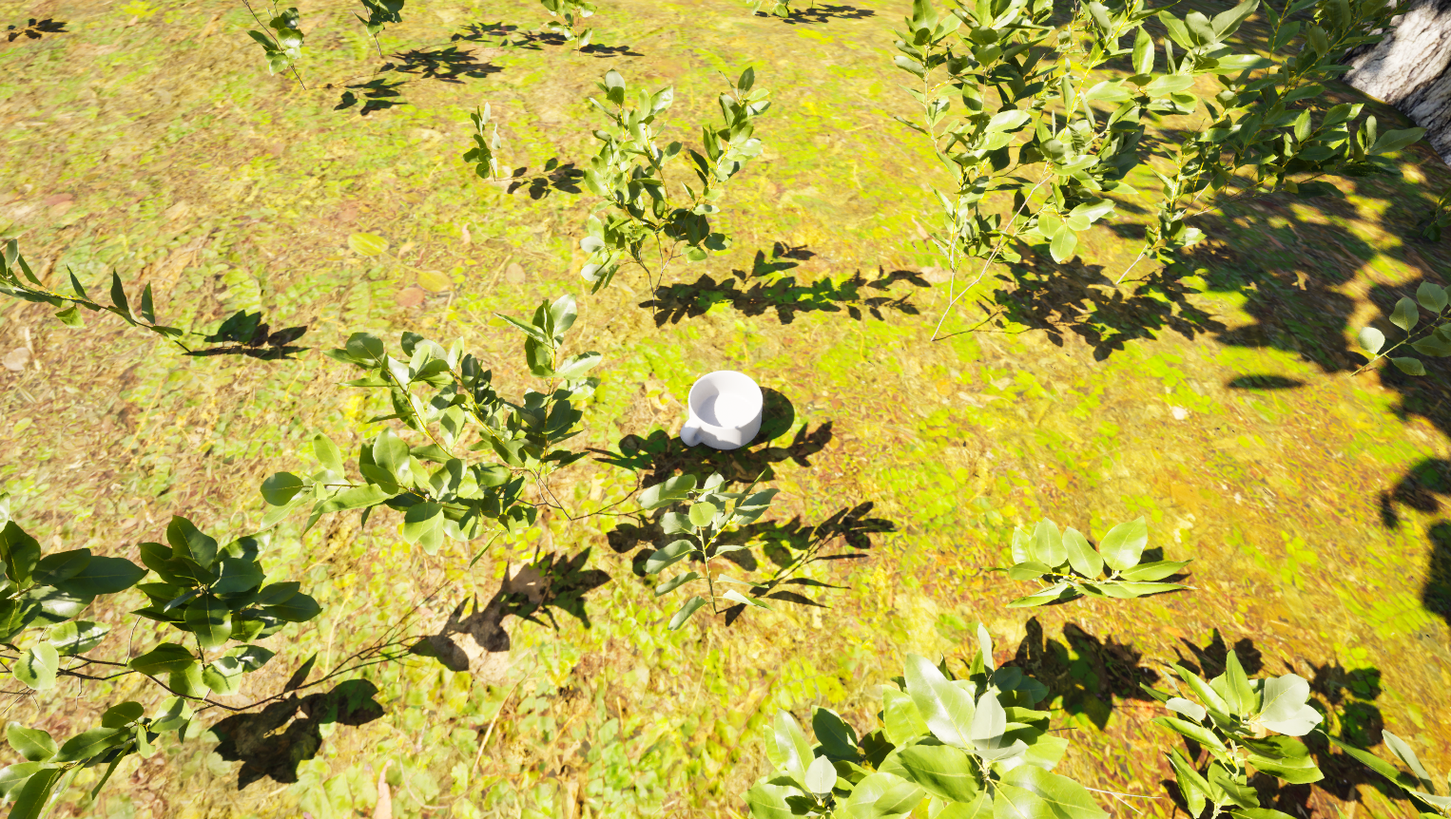Teacup: (674, 366, 769, 455)
